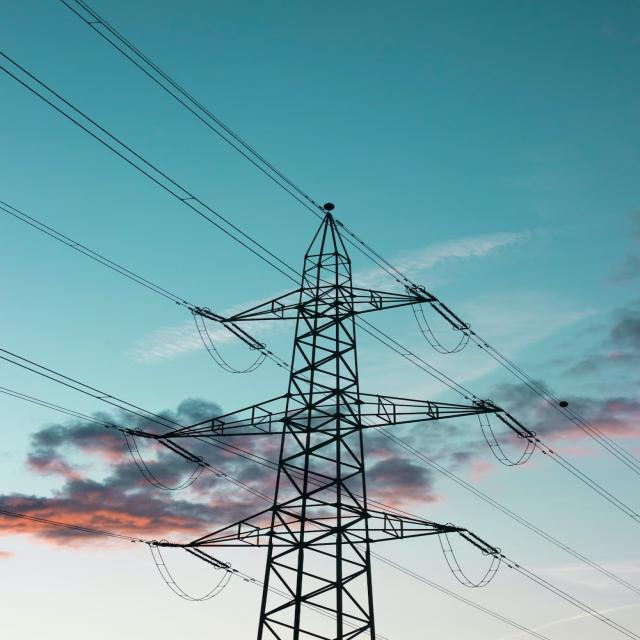transmission tower: (116, 171, 561, 640)
